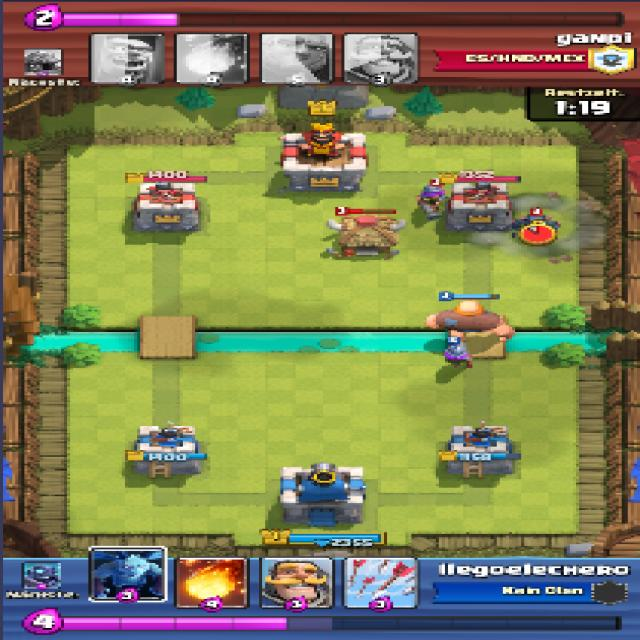Enemy-GoblinHut: (326, 214, 408, 256)
Enemy-MiniPEKKA: (510, 215, 561, 236)
Enemy-Musketeer: (416, 184, 444, 216)
Player-Giant: (425, 300, 515, 341)
Player-Musketeer: (440, 341, 477, 368)
